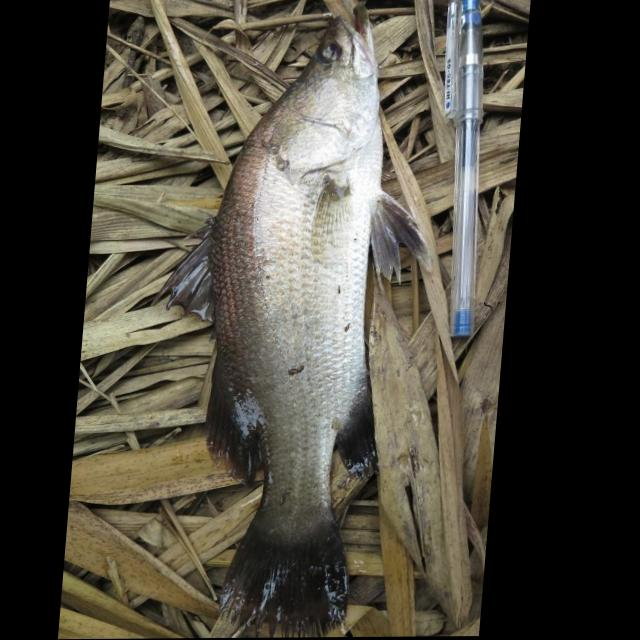Seabass: (120, 17, 452, 639)
